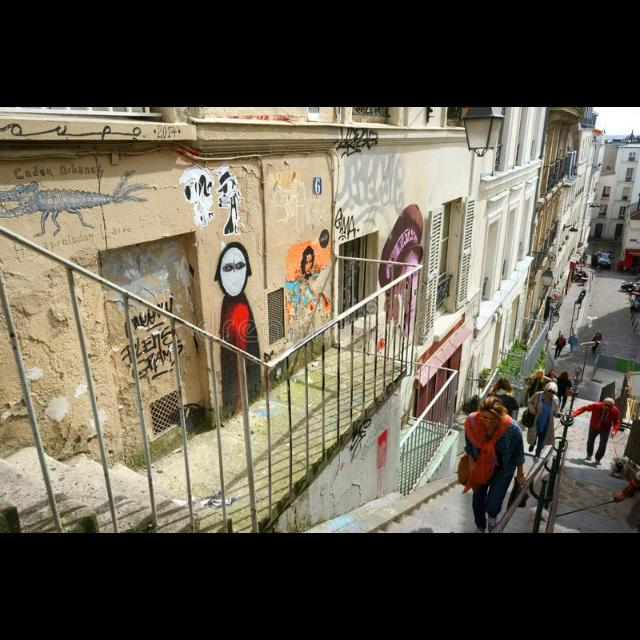head: (480, 397, 504, 433), (545, 383, 559, 399), (602, 398, 616, 412), (498, 378, 510, 392), (537, 370, 545, 380), (562, 373, 570, 381), (560, 334, 566, 340), (598, 330, 602, 336), (573, 333, 577, 339)
person: (570, 396, 622, 466), (522, 381, 566, 461), (484, 378, 520, 462), (522, 368, 550, 430), (555, 369, 573, 415), (590, 330, 604, 358), (553, 334, 567, 358), (568, 334, 580, 356)
